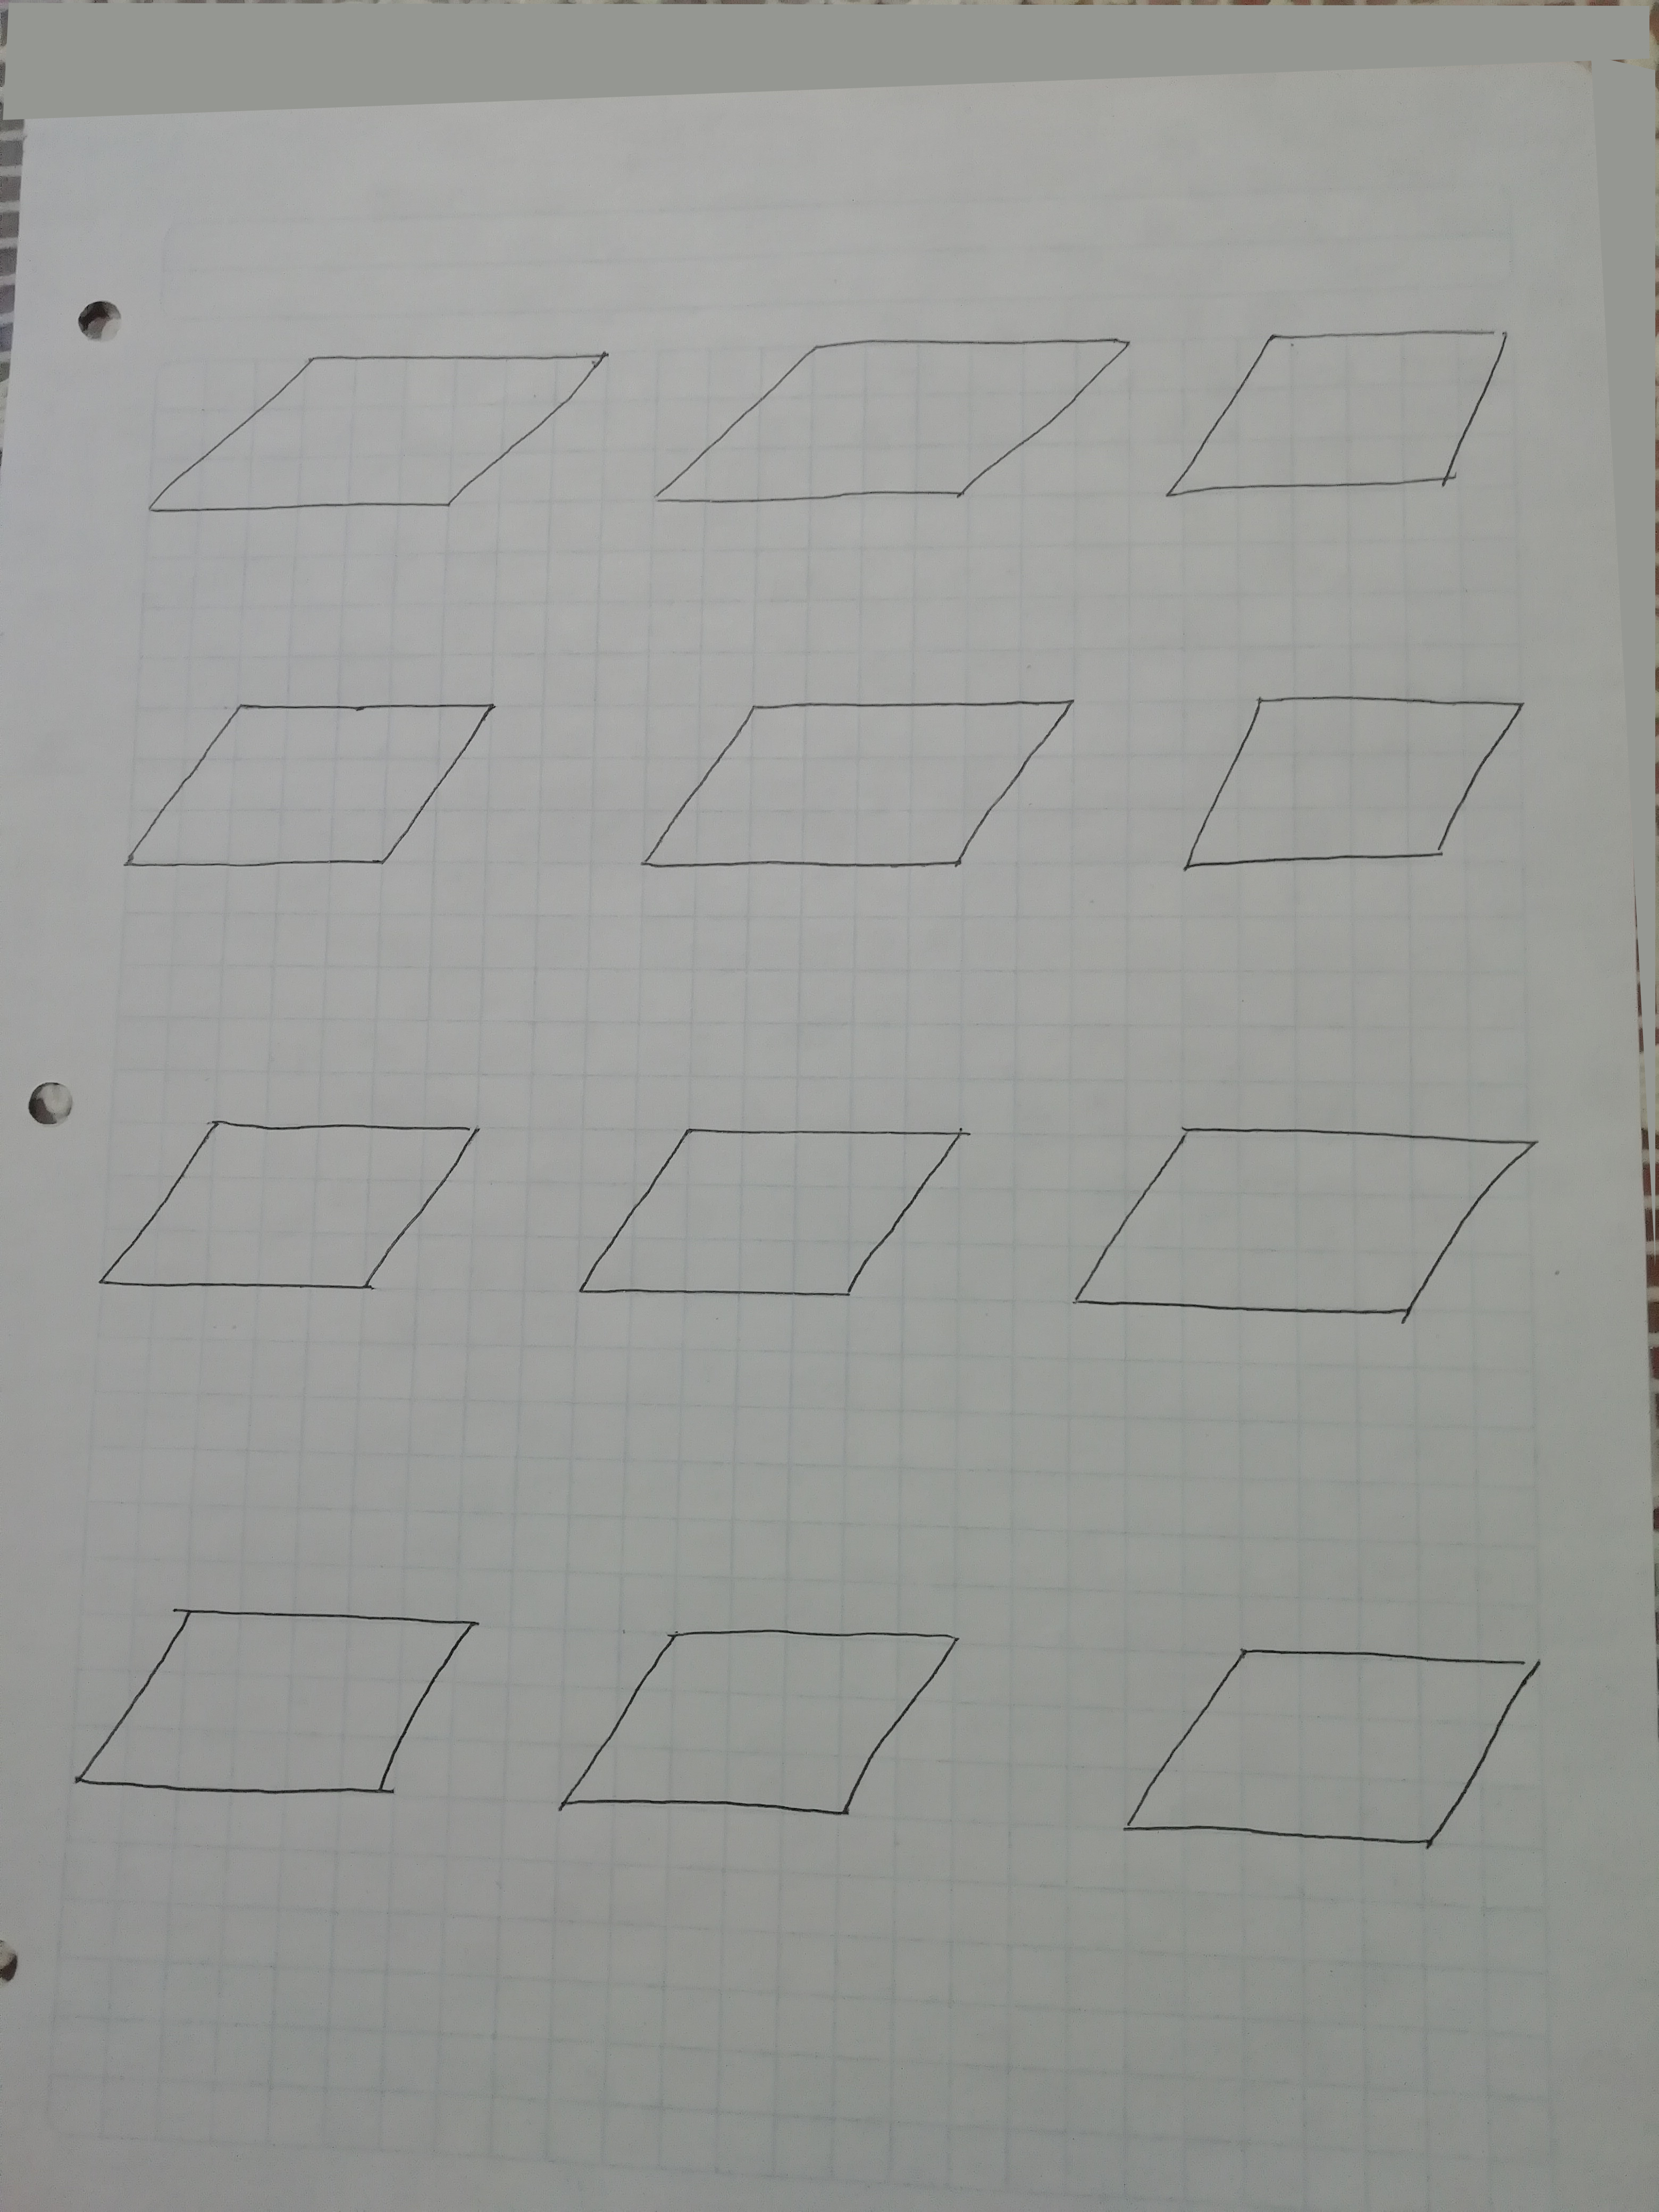scan: (1061, 1089, 1544, 1379), (1093, 1616, 1565, 1900), (598, 672, 1093, 932), (37, 1581, 495, 1857), (115, 315, 619, 549), (640, 291, 1133, 528), (547, 1092, 990, 1339), (537, 1606, 972, 1857), (71, 678, 523, 918), (1164, 671, 1561, 935), (87, 1106, 498, 1350), (1161, 298, 1537, 531)
